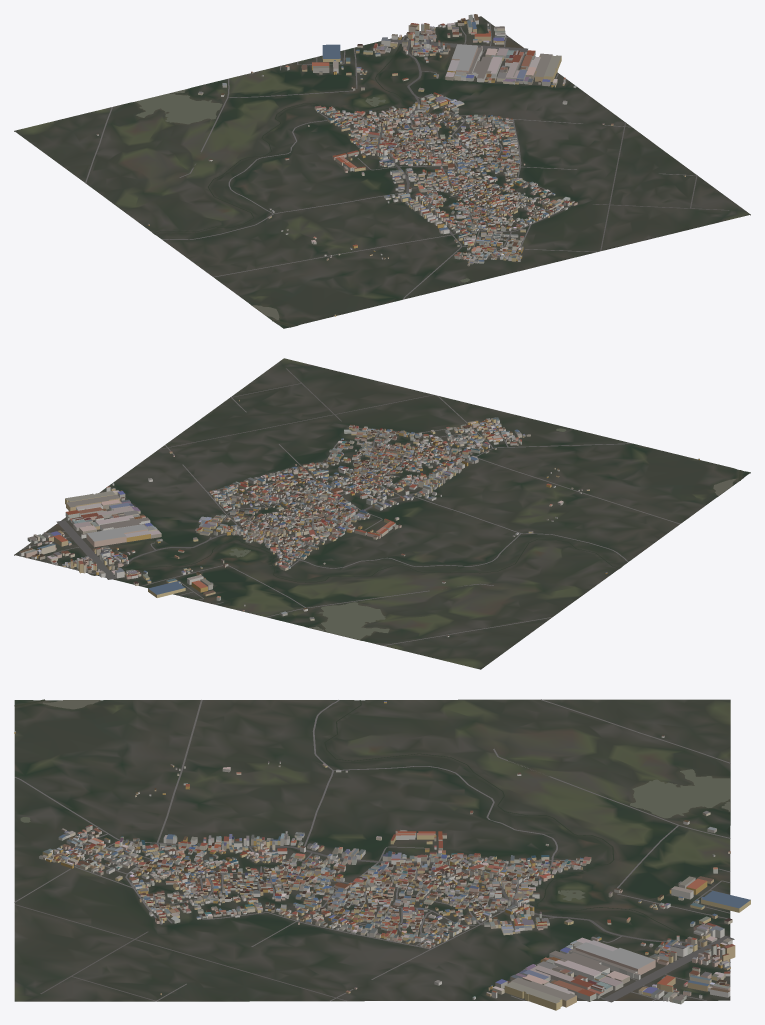
3 views of the same model, one above another, from view 1: azimuth 30°, elevation 25°; view 2: azimuth 150°, elevation 25°; view 3: azimuth 270°, elevation 25° (orthographic). The views are drawn at different scales.
Parts seen in each view (by area): view 1: ground, buildings, roads, water; view 2: ground, buildings, roads, water; view 3: ground, buildings, roads, water.
Boxes of the visible parts, left/top/right/bottom form: ground: left=14, top=16, right=750, bottom=328; buildings: left=96, top=14, right=685, bottom=316; roads: left=85, top=22, right=729, bottom=299; water: left=136, top=36, right=469, bottom=326; ground: left=14, top=358, right=750, bottom=669; buildings: left=19, top=399, right=699, bottom=637; roads: left=22, top=368, right=680, bottom=645; water: left=91, top=428, right=742, bottom=639; ground: left=14, top=699, right=730, bottom=1001; buildings: left=14, top=701, right=750, bottom=1010; roads: left=14, top=699, right=734, bottom=1002; water: left=14, top=699, right=729, bottom=944.
Size of the model in its own units: 1448 by 33.12 by 1443.
